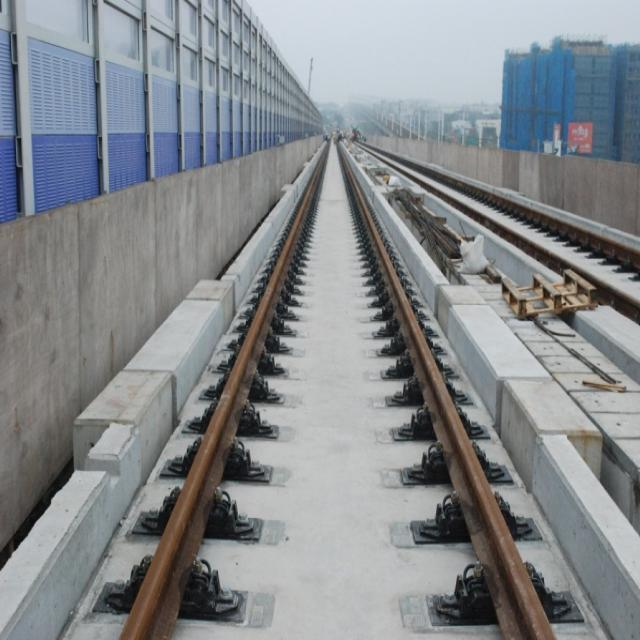rail-track: (172, 146, 500, 639), (369, 146, 640, 323), (463, 400, 576, 589)
